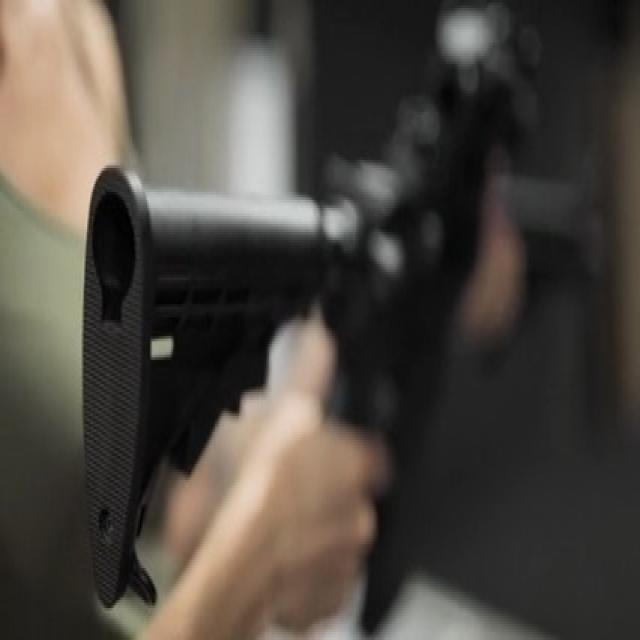Gun_Holder: (64, 0, 633, 640)
